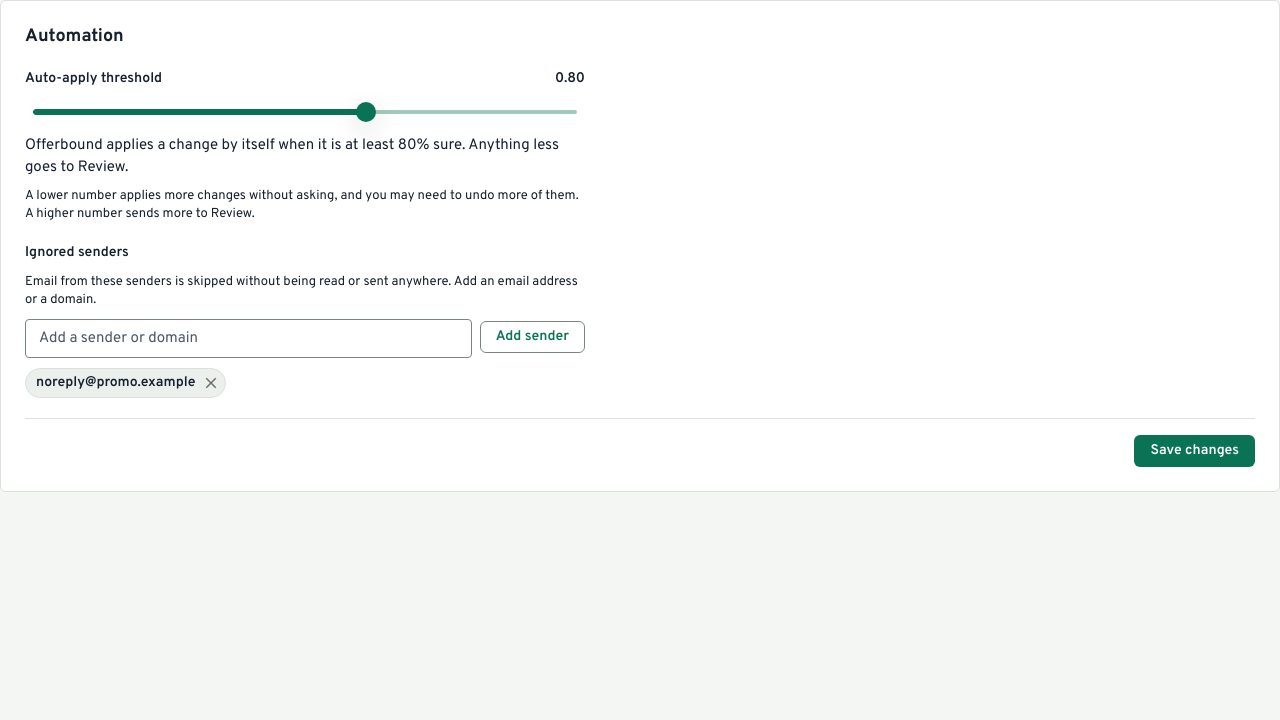
Test case: Settings, Automation › the slider runs from 0.50 to 0.99 and shows the value in words
The image size is (1280, 720).
Expected: the text "Offerbound applies a change by itself when it is at least 80% sure. Anything less goes to Review." is shown, [25,136,559,177]
Expected: the text "0.80" is shown, [555,69,585,89]
Set the slider labelled "Auto-apply threshold" to "0.5" at (366, 112), box [356,102,376,122]
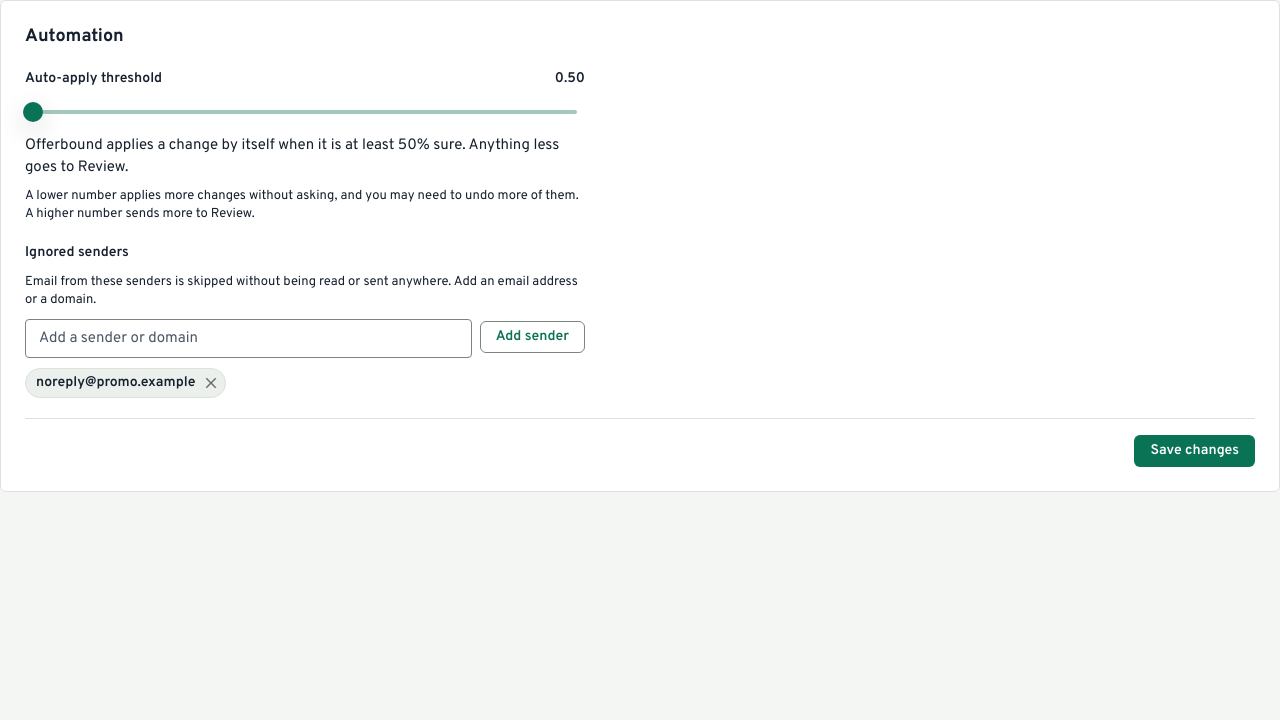
Now the text "at least 50% sure" is shown, box [25,136,559,177]
Now the text "0.50" is shown, box [555,69,585,89]
Set the slider labelled "Auto-apply threshold" to "0.99" at (33, 112), box [23,102,43,122]
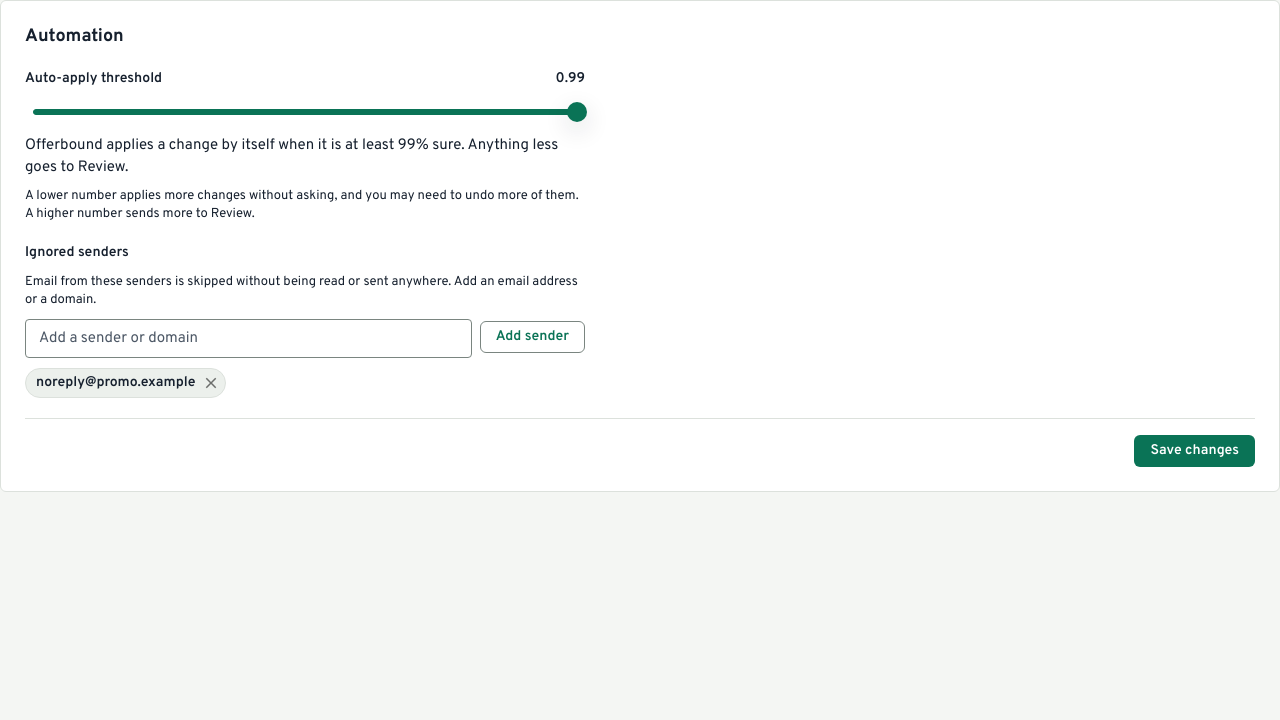
Now the text "at least 99% sure" is shown, box [25,136,558,177]
